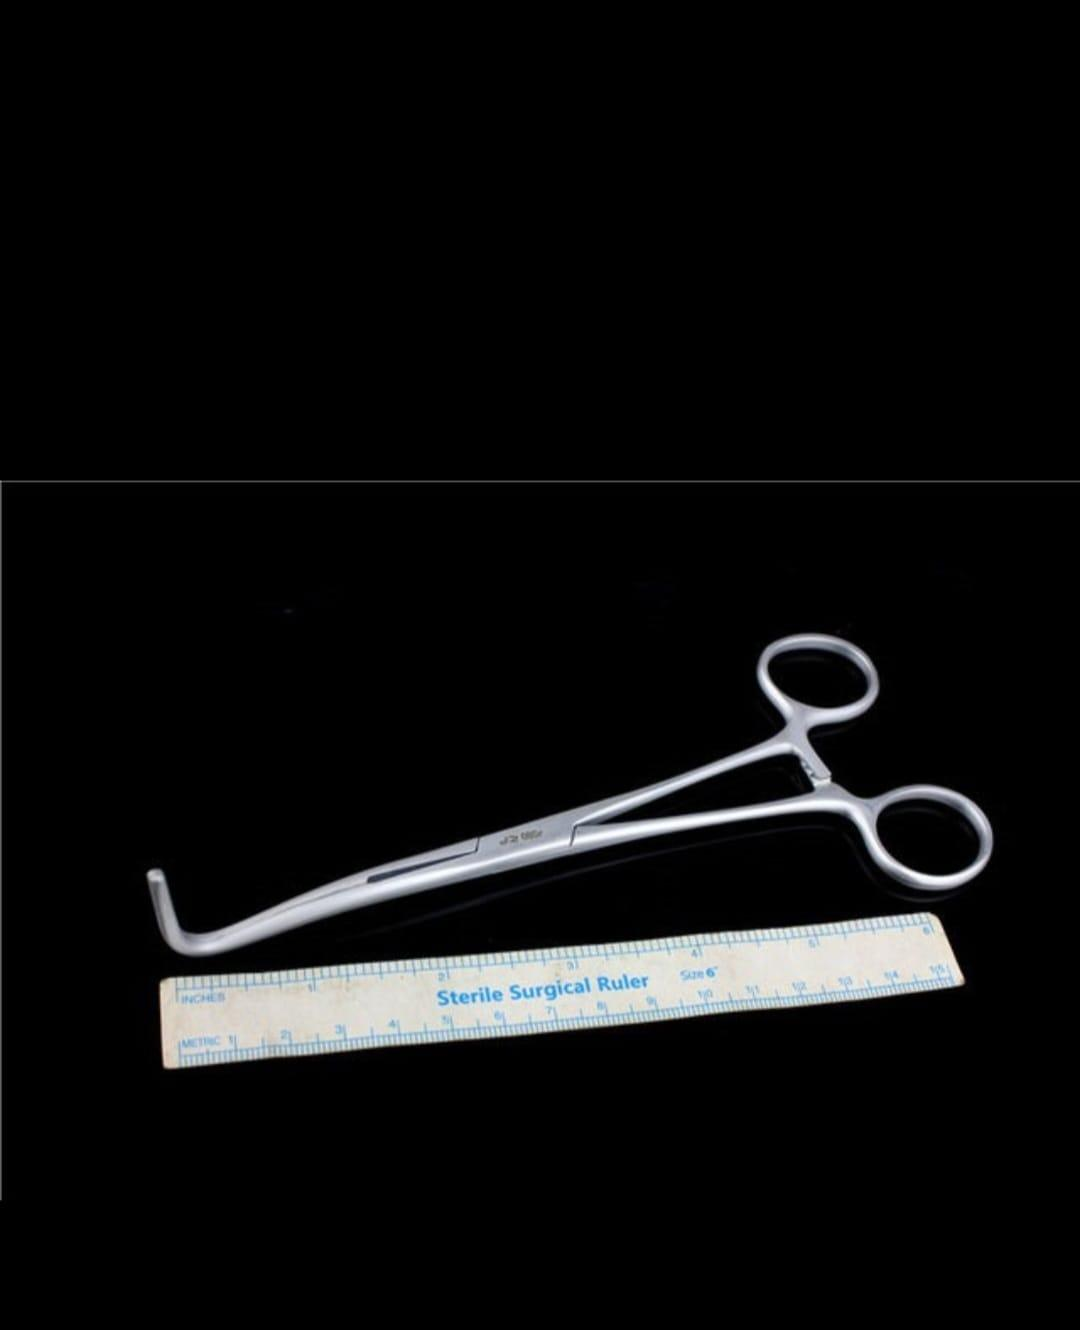Rectangle Cholecystectomy Forceps: (138, 620, 990, 966)
